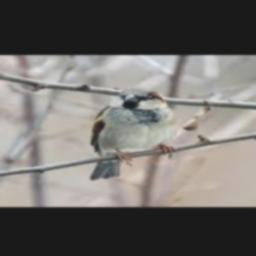Sparrow: (89, 88, 176, 180)
